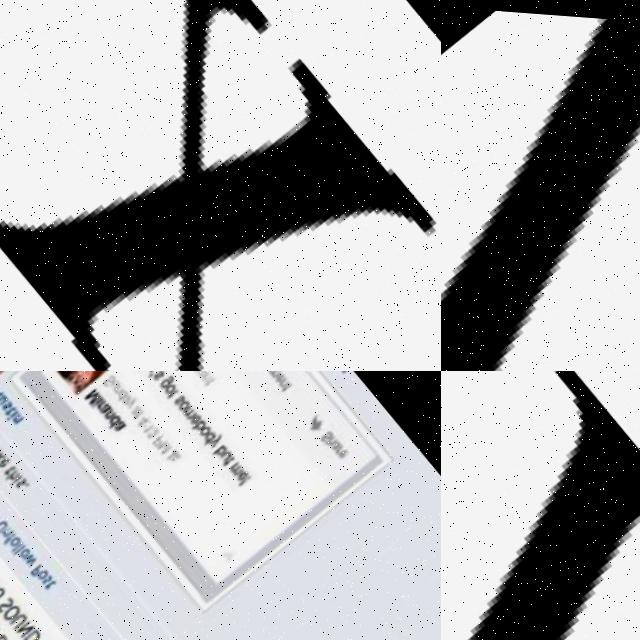0: (134, 410, 149, 424)
A: (111, 415, 127, 431), (97, 398, 112, 413), (328, 433, 341, 446), (120, 390, 131, 402), (130, 401, 141, 412)
B: (210, 437, 228, 455), (190, 412, 207, 430)
D: (441, 0, 640, 371), (441, 371, 640, 640), (19, 624, 42, 640), (198, 424, 217, 443), (104, 409, 121, 427), (113, 384, 128, 399)
E: (234, 462, 248, 477), (336, 440, 349, 454), (188, 409, 201, 421), (0, 454, 9, 467), (273, 371, 285, 378), (195, 371, 209, 376)
F: (1, 530, 15, 543)
G: (156, 371, 175, 387)
H: (3, 467, 20, 483), (322, 428, 337, 443)
I: (8, 472, 22, 485), (90, 393, 103, 406), (4, 408, 17, 420)
K: (0, 447, 4, 465)
L: (9, 539, 21, 551), (12, 543, 23, 553)
M: (81, 383, 102, 403), (155, 434, 172, 452), (182, 400, 198, 416), (228, 455, 244, 471)
N: (14, 617, 34, 638), (102, 404, 116, 418), (111, 378, 124, 392), (10, 410, 23, 423), (1, 525, 12, 536), (278, 371, 289, 382), (200, 371, 211, 378)
O: (0, 600, 21, 622), (176, 393, 192, 409), (6, 532, 20, 547), (163, 377, 177, 392), (197, 418, 211, 433), (16, 544, 31, 558), (34, 566, 47, 578)
P: (27, 559, 44, 577), (150, 428, 166, 444)
R: (95, 395, 107, 407), (333, 439, 344, 448)
S: (0, 592, 14, 614), (317, 421, 334, 439), (172, 388, 186, 403), (100, 371, 115, 384), (14, 474, 27, 487), (39, 572, 51, 585), (1, 398, 12, 410), (151, 371, 165, 377)
T: (132, 405, 145, 418), (165, 383, 179, 395), (42, 576, 55, 588), (221, 450, 234, 462), (3, 463, 15, 475), (3, 404, 15, 416), (280, 376, 293, 387), (203, 373, 214, 383), (30, 635, 50, 640)
U: (7, 607, 29, 630), (218, 444, 231, 458), (108, 375, 121, 388), (0, 581, 6, 603), (0, 516, 7, 534), (0, 391, 8, 405)
W: (21, 550, 37, 566)
X: (0, 0, 441, 371)
Y: (208, 428, 224, 443), (124, 390, 140, 405)
